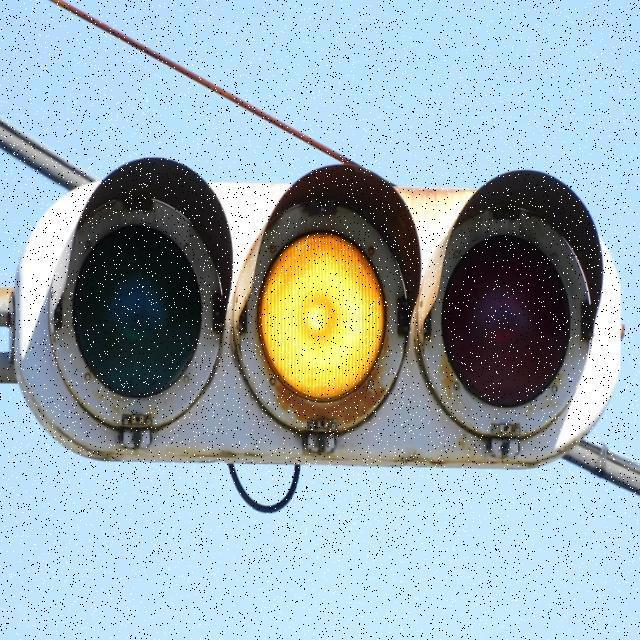yellow_light: (251, 205, 422, 450)
